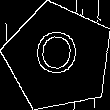O_S: (33, 29, 84, 85)
